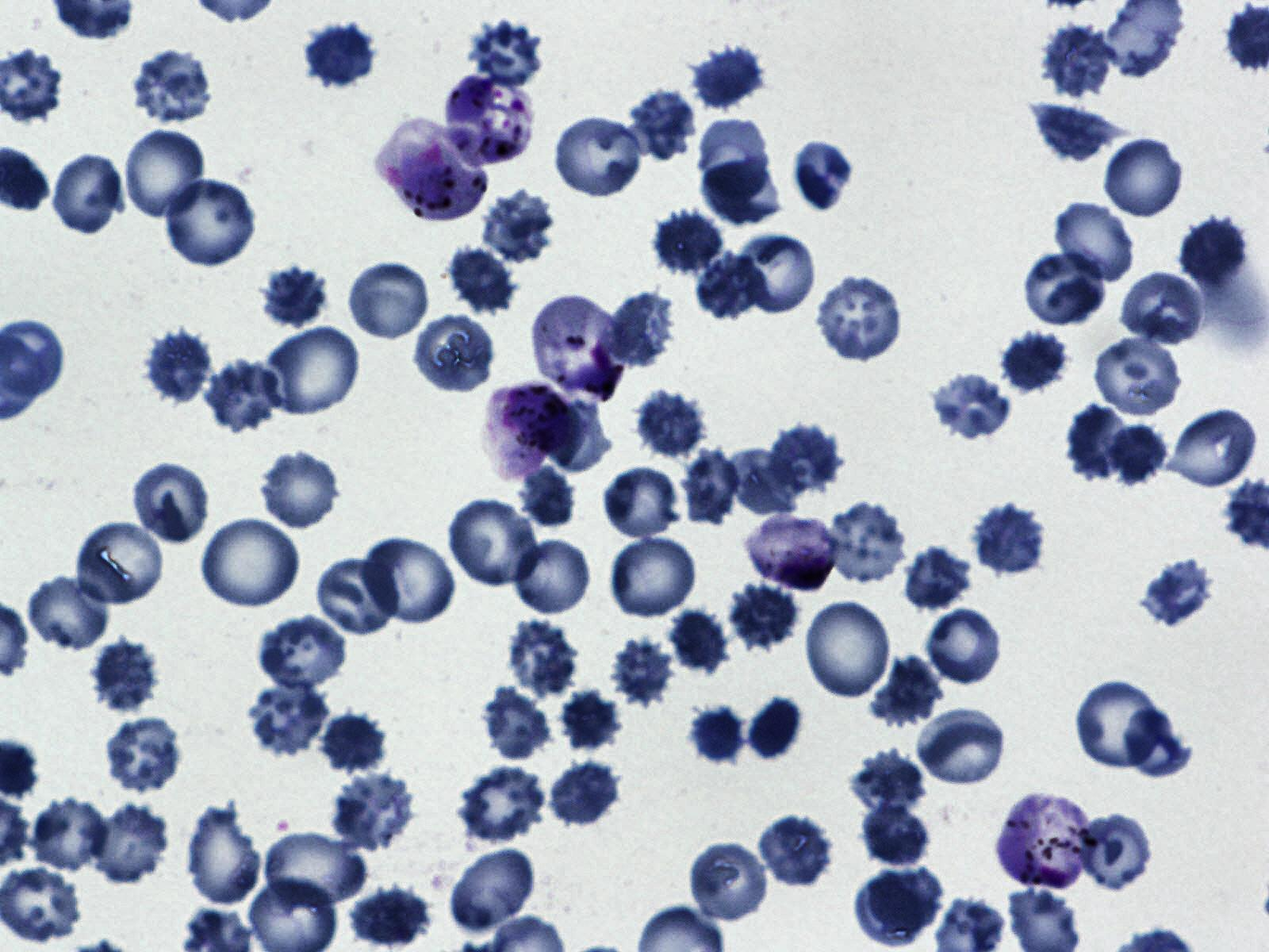Infected: (377, 117, 490, 223), (531, 293, 627, 401), (479, 381, 572, 482), (443, 70, 539, 167), (996, 793, 1091, 889), (747, 511, 839, 590)
Uninfected: (199, 512, 305, 612), (259, 322, 363, 417), (803, 595, 894, 703), (361, 534, 459, 627), (159, 176, 259, 267), (445, 497, 541, 588), (266, 830, 370, 912), (552, 112, 647, 200), (447, 846, 539, 934), (608, 533, 701, 620), (814, 275, 907, 362), (1092, 333, 1186, 419), (75, 520, 167, 607), (186, 798, 261, 904), (1072, 682, 1160, 771), (821, 501, 912, 585), (315, 552, 404, 636), (1172, 407, 1262, 489), (454, 765, 549, 842), (734, 230, 818, 317), (1103, 136, 1187, 221), (27, 571, 113, 654), (919, 707, 1007, 788), (328, 771, 418, 850), (126, 129, 205, 218), (244, 679, 333, 758), (258, 449, 343, 531), (688, 839, 769, 925), (347, 259, 431, 341), (532, 390, 614, 474), (130, 46, 217, 125), (1052, 202, 1133, 286), (855, 870, 944, 946), (257, 610, 341, 689), (99, 716, 186, 792), (131, 463, 212, 544), (512, 537, 595, 616), (1119, 272, 1206, 347), (29, 795, 111, 874), (49, 153, 126, 237), (1026, 101, 1127, 165), (1075, 808, 1152, 891), (600, 466, 684, 542), (92, 804, 171, 884), (1022, 251, 1108, 324), (971, 500, 1047, 581), (205, 360, 285, 436), (926, 611, 1003, 689), (867, 654, 947, 728), (141, 327, 216, 405), (83, 639, 161, 714), (932, 369, 1014, 440), (627, 87, 703, 163), (481, 188, 559, 262), (416, 321, 499, 390), (1180, 213, 1250, 294), (602, 293, 677, 368), (505, 620, 579, 696), (300, 21, 378, 93), (757, 816, 833, 889), (547, 758, 623, 831), (700, 119, 768, 200), (1041, 23, 1113, 99), (463, 21, 545, 87), (1139, 557, 1218, 625), (702, 160, 781, 228), (481, 688, 551, 762), (769, 423, 845, 491), (849, 749, 928, 814), (723, 449, 799, 516), (791, 137, 858, 212), (350, 887, 433, 947), (860, 799, 930, 870), (901, 544, 976, 610), (1068, 405, 1133, 481), (1124, 705, 1191, 778), (447, 244, 515, 314), (312, 710, 384, 776), (635, 390, 706, 455), (998, 329, 1069, 394), (656, 209, 723, 276), (733, 580, 799, 648), (679, 449, 737, 524), (697, 252, 761, 318), (696, 45, 762, 109), (261, 266, 327, 328), (615, 639, 674, 708), (669, 609, 731, 674), (1106, 423, 1169, 485), (520, 461, 575, 528), (749, 696, 802, 764), (561, 693, 623, 750), (692, 704, 747, 764)
